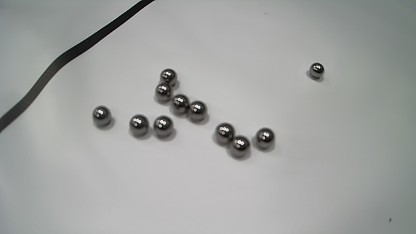ironball: (153, 115, 174, 138), (214, 122, 235, 144), (129, 114, 149, 136), (230, 135, 250, 157), (92, 105, 111, 127), (255, 127, 274, 149), (188, 100, 207, 121), (171, 94, 189, 115), (155, 83, 172, 102), (160, 68, 177, 86), (309, 62, 324, 78)
